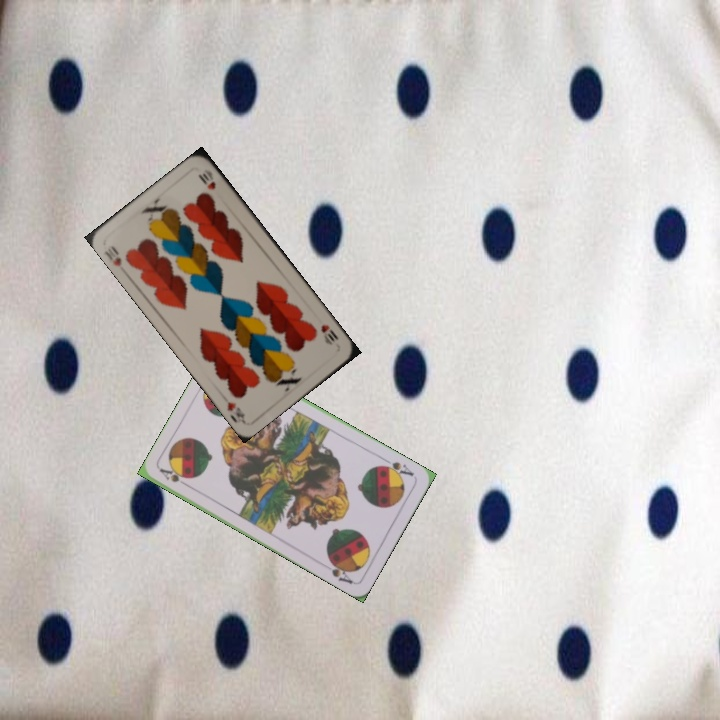H10: (317, 320, 341, 348), (101, 241, 124, 269)
SA: (376, 454, 416, 480), (156, 464, 193, 491)
